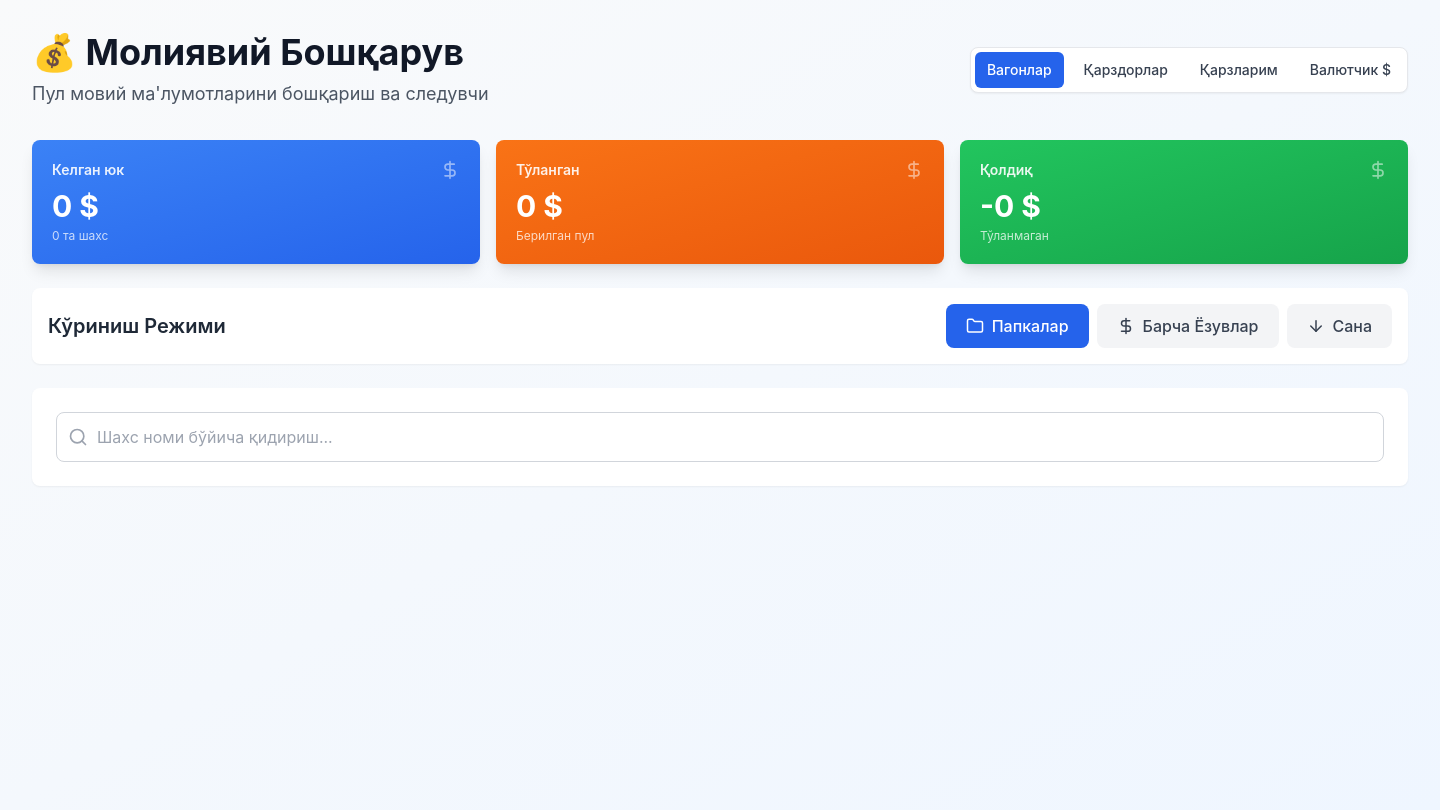
Test: Moliya page › Сана: off = newest first (default), on = oldest first, for folders and a person's history
Later steps or results of the test are not shown.
expect the button "Вагонлар" is shown: met, box [975,52,1064,88]
Click the button "Қарздорлар" at (1126, 70), box [1072,52,1180,88]
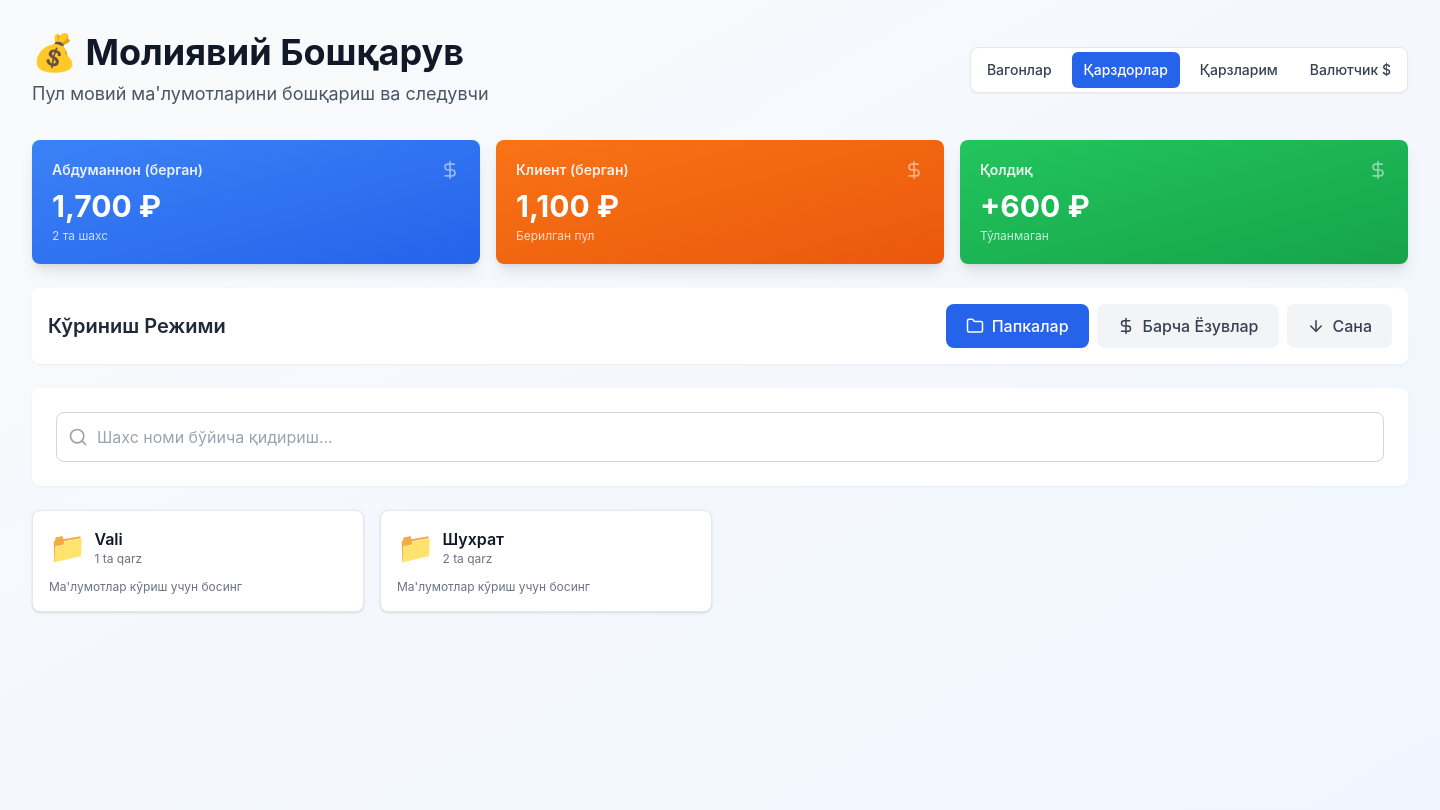
Click the button "Сана" at (1339, 326), box [1286,304,1392,348]
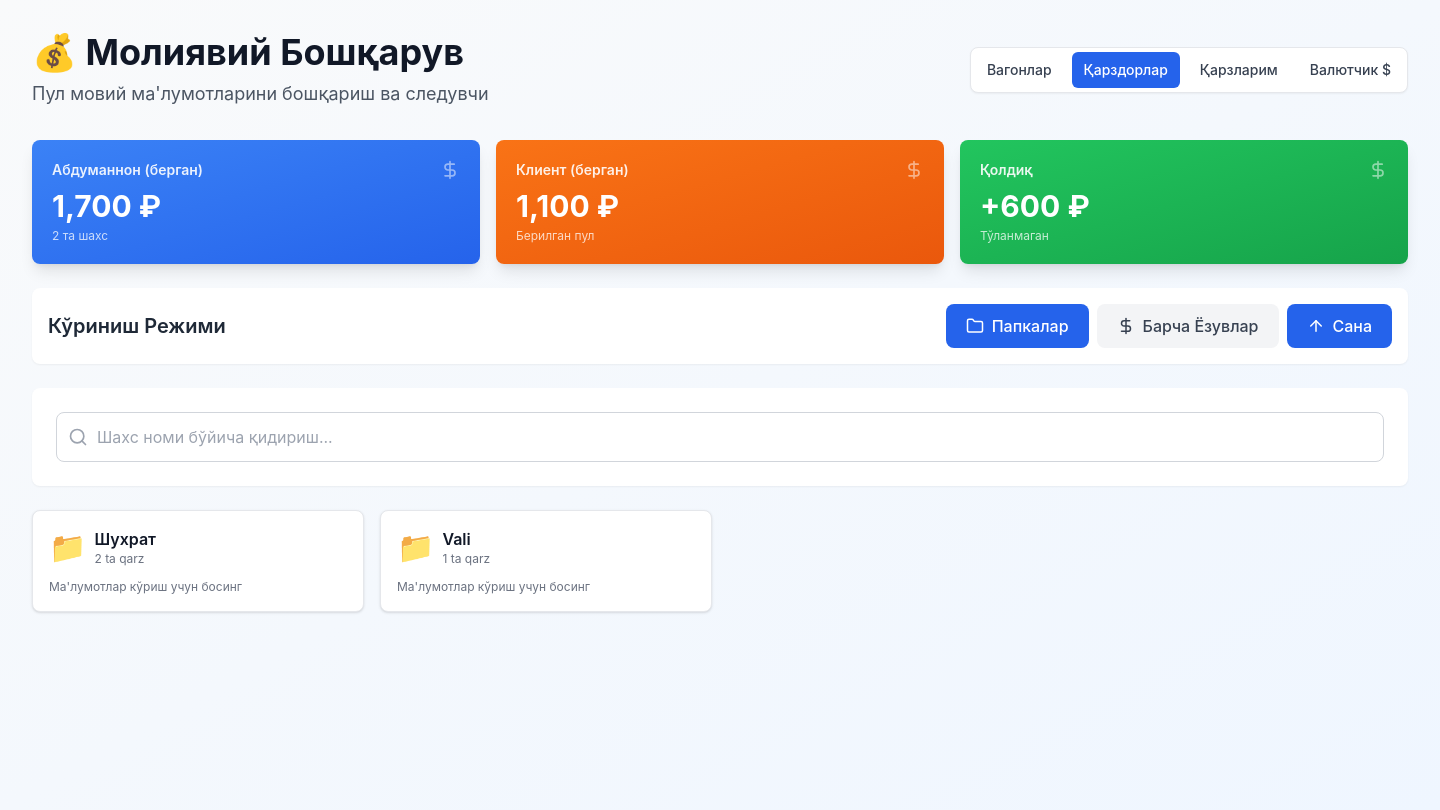
expect the button "Сана" is pressed: met, box [1286,304,1392,348]
